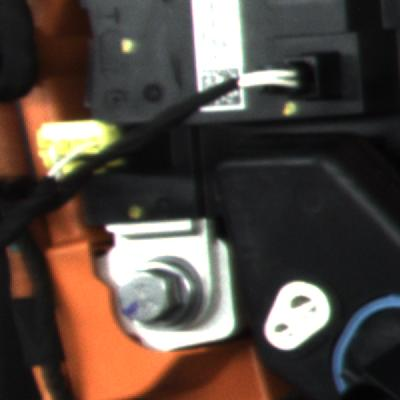nut_b: (110, 253, 214, 335)
